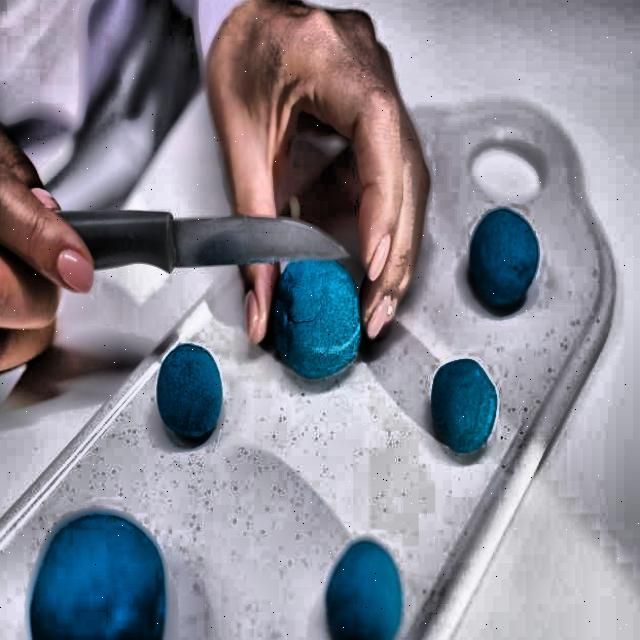knife: (36, 207, 349, 275)
